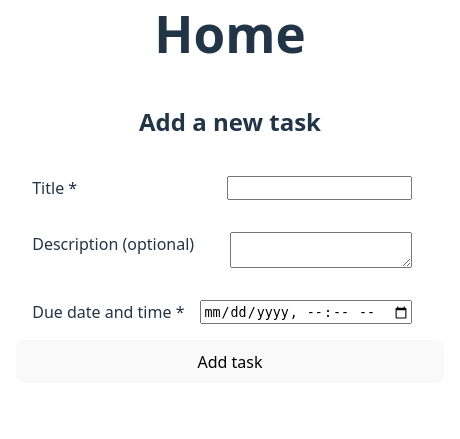
Test: Home page › displays error message when addTask fails
Type "A mock task" into the field labelled "Title *" at (319, 188), box x1=227 y1=176 x2=412 y2=200
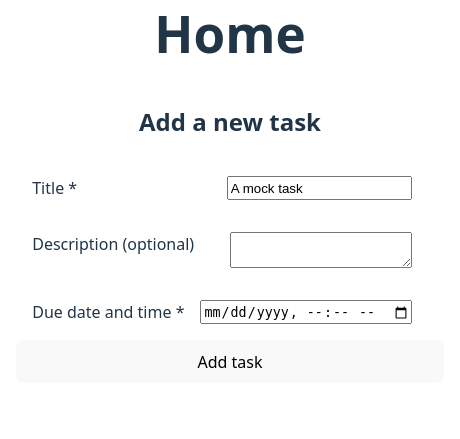
Type "A description of a mock task" into the text box labelled "Description (optional)" at (321, 250), box x1=230 y1=232 x2=412 y2=268
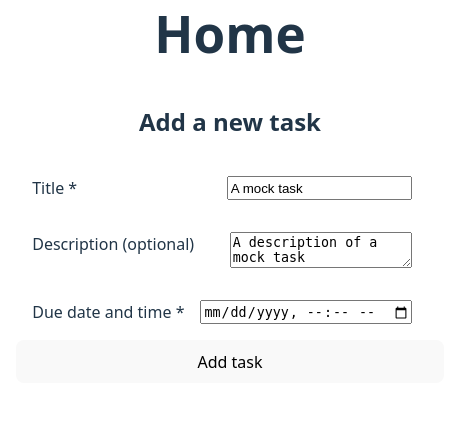
Type "2025-12-19T12:00" into the field labelled "Due date and time *" at (306, 312), box x1=200 y1=300 x2=412 y2=324
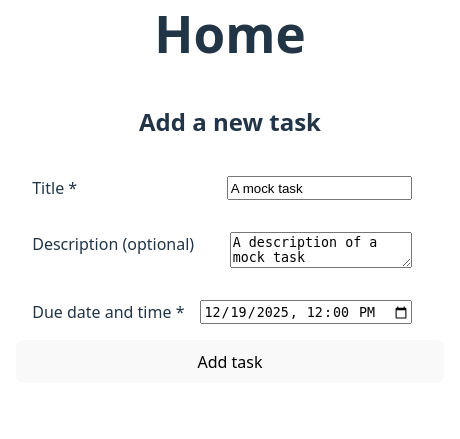
Click the button "Add task" at (230, 362), box x1=16 y1=340 x2=444 y2=383
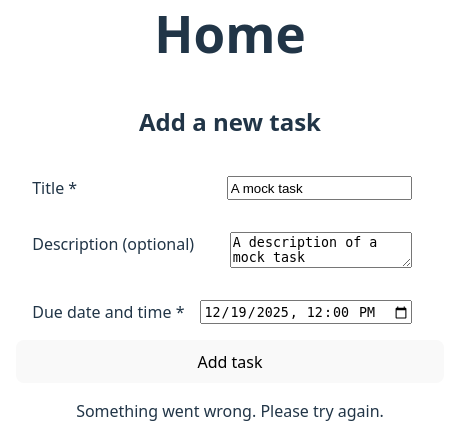
Expected: the text "Something went wrong. Please try again." is shown, x1=76 y1=400 x2=384 y2=422
